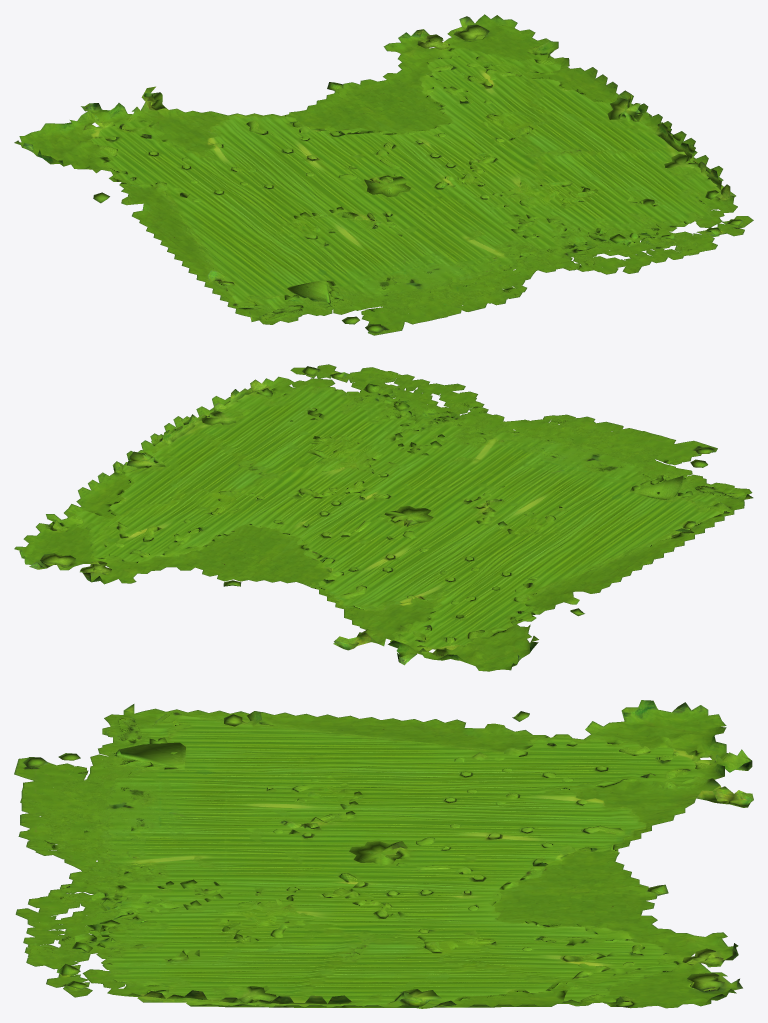
The model's file is wild_grass_patch.glb.
3 views of the same model, one above another, from view 1: azimuth 30°, elevation 25°; view 2: azimuth 150°, elevation 25°; view 3: azimuth 270°, elevation 25° (orthographic). The views are drawn at different scales.
Size of the model in its own units: 1.86 by 0.0548 by 1.9.
Materials: 1 (1 with a texture image).
